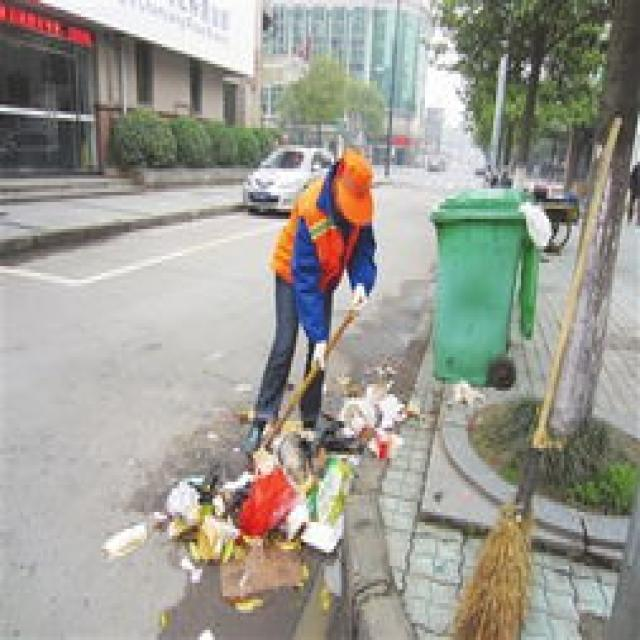garbage: (99, 377, 417, 610)
garbage_bin: (428, 182, 518, 374)
